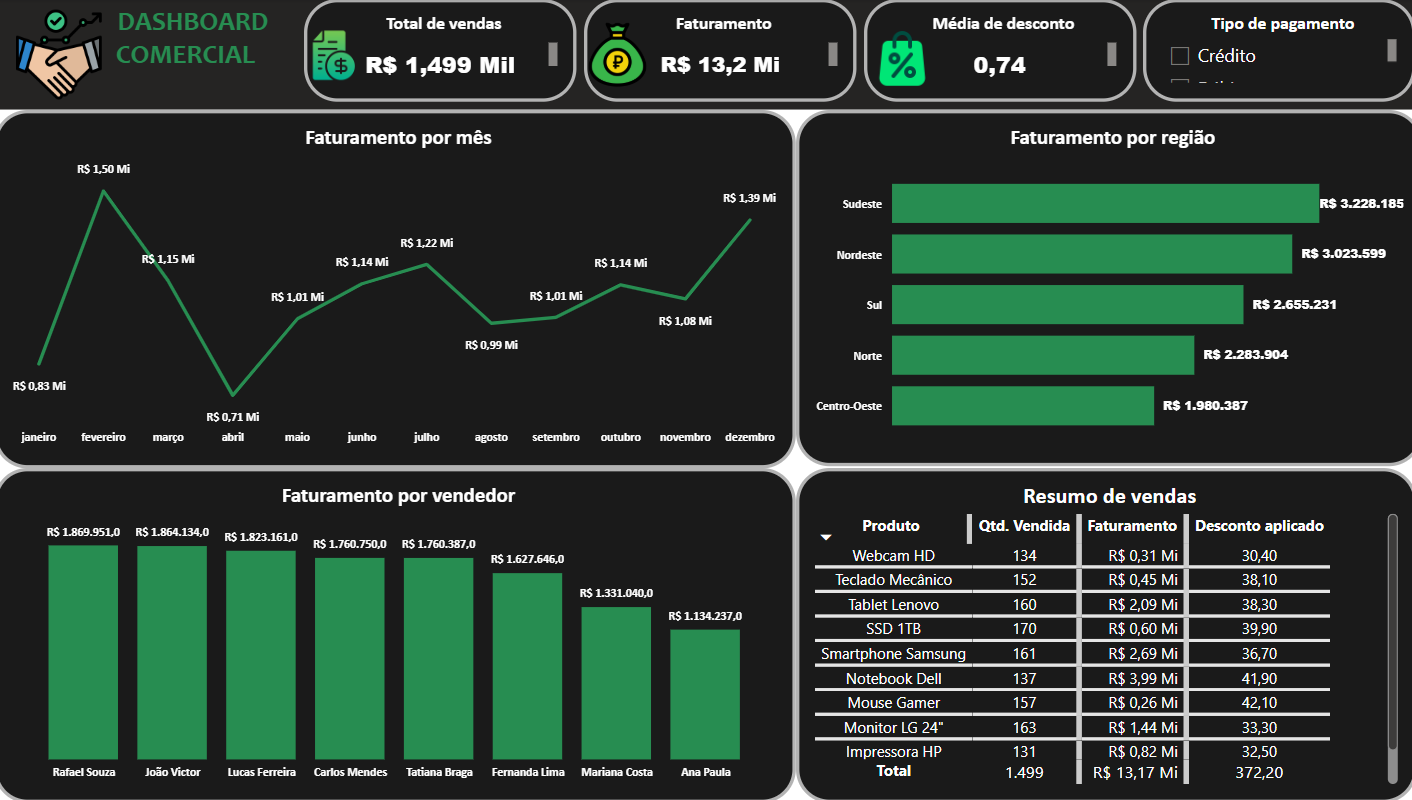

What the dashboard file says about the page in this screenshot:
{"tool":"powerbi","page":{"name":"Página 1","canvas":[1280,720],"ordinal":0},"visuals":[{"type":"textbox","box":[93.1,171,707.5,149.6],"z":0},{"type":"textbox","box":[0,0,1279.7,99.4],"z":1000},{"type":"cardVisual","title":"Média de desconto","fields":{"Data":["Avg(base_vendas.Desconto)"]},"box":[779.1,0,243.6,92.2],"z":2000},{"type":"cardVisual","title":"Faturamento","fields":{"Data":["Sum(base_vendas.Total_Venda)"]},"box":[528.4,0,244.5,92.2],"z":3000},{"type":"slicer","title":"Tipo de pagamento","fields":{"Values":["base_vendas.Tipo_Pagamento"]},"box":[1029,0,244.5,92.2],"z":4000},{"type":"cardVisual","title":"Total de vendas","fields":{"Data":["Sum(base_vendas.Quantidade)"]},"box":[277.6,0,244.5,92.2],"z":5000},{"type":"lineChart","title":"Faturamento por mês","fields":{"Category":["base_vendas.Data_Venda.Variation.Hierarquia de datas.Mês"],"Y":["Sum(base_vendas.Total_Venda)"]},"box":[0,99.4,718.2,320.6],"z":6000},{"type":"columnChart","title":"Faturamento por vendedor","fields":{"Category":["base_vendas.Vendedor"],"Y":["Sum(base_vendas.Total_Venda)"]},"box":[0,420,718.2,300],"z":7000},{"type":"pivotTable","title":"Resumo de vendas","fields":{"Rows":["base_vendas.Produto"],"Values":["Sum(base_vendas.Quantidade)","Sum(base_vendas.Total_Venda)","Sum(base_vendas.Desconto)"]},"box":[718.2,420,556.1,300],"z":8000},{"type":"barChart","title":"Faturamento por região","fields":{"Category":["base_vendas.Regiao"],"Y":["Sum(base_vendas.Total_Venda)"]},"box":[718.2,99.4,561.5,318.8],"z":9000},{"type":"image","box":[17,7.2,82.4,85.1],"z":10000},{"type":"image","box":[277.6,17.9,52.8,64.5],"z":11000},{"type":"image","box":[528.4,17.9,60,61.8],"z":12000},{"type":"image","box":[785.4,24.2,55.5,58.2],"z":13000}]}

Visuals, with their boxes in screenshot pixels (x1, y1, x2, y2), scaled from the page's 1280x720 canvas onto the 1412x800 screenshot:
textbox: left=103, top=190, right=883, bottom=356
textbox: left=0, top=0, right=1411, bottom=110
"Média de desconto" cardVisual: left=859, top=0, right=1128, bottom=102
"Faturamento" cardVisual: left=583, top=0, right=853, bottom=102
"Tipo de pagamento" slicer: left=1135, top=0, right=1405, bottom=102
"Total de vendas" cardVisual: left=306, top=0, right=576, bottom=102
"Faturamento por mês" lineChart: left=0, top=110, right=792, bottom=467
"Faturamento por vendedor" columnChart: left=0, top=467, right=792, bottom=799
"Resumo de vendas" pivotTable: left=792, top=467, right=1406, bottom=799
"Faturamento por região" barChart: left=792, top=110, right=1411, bottom=465
image: left=19, top=8, right=110, bottom=103
image: left=306, top=20, right=364, bottom=92
image: left=583, top=20, right=649, bottom=89
image: left=866, top=27, right=928, bottom=92
